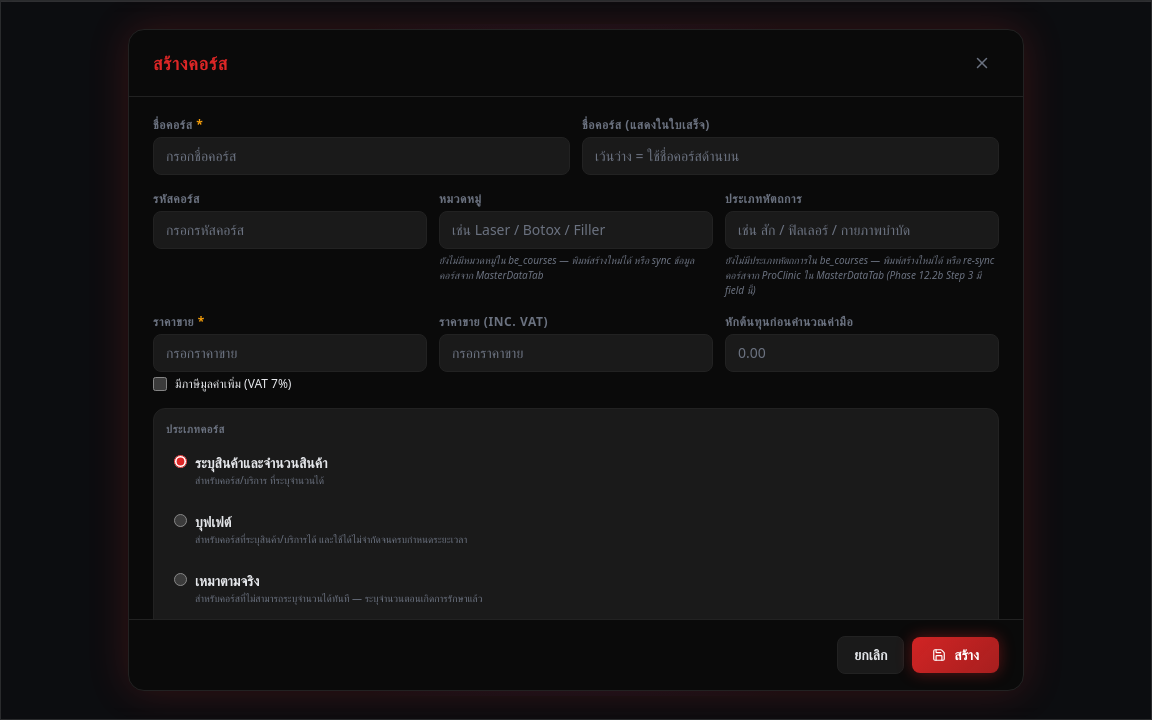
CourseFormModal › CM1: empty name rejected
This screenshot has width=1152, height=720.
Click the button "สร้าง" at (956, 655), box [912, 637, 999, 673]
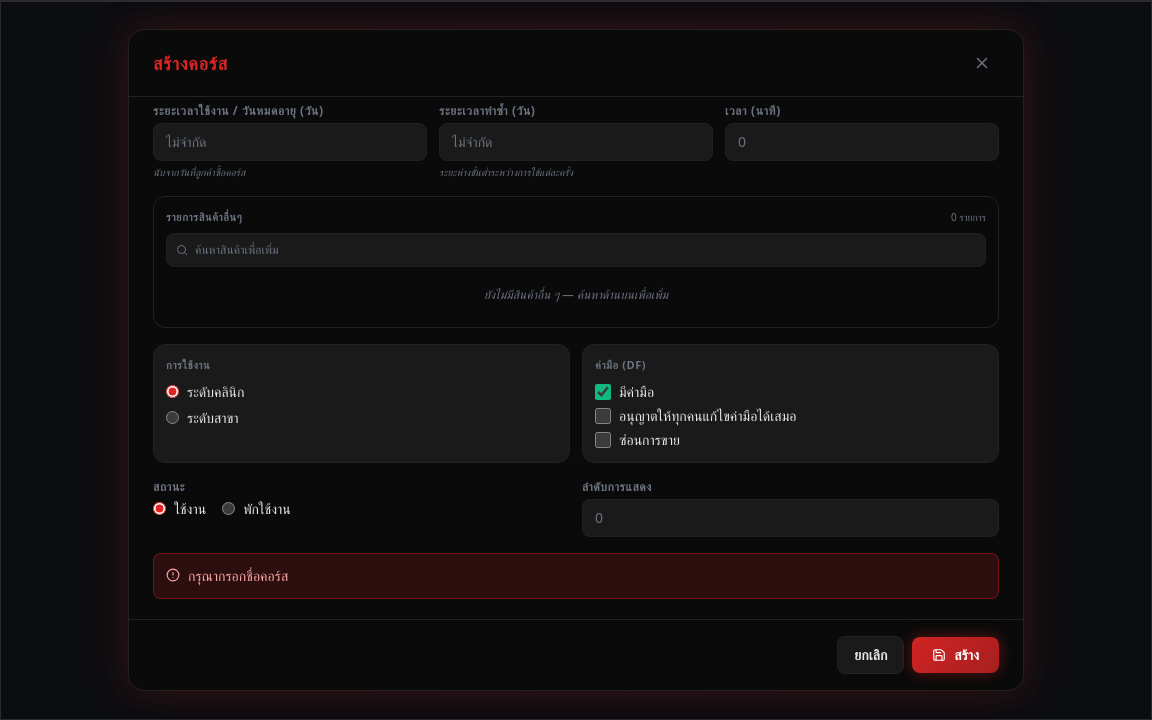
Check: the text "กรุณากรอกชื่อคอร์ส" is shown, box [188, 566, 288, 586]
